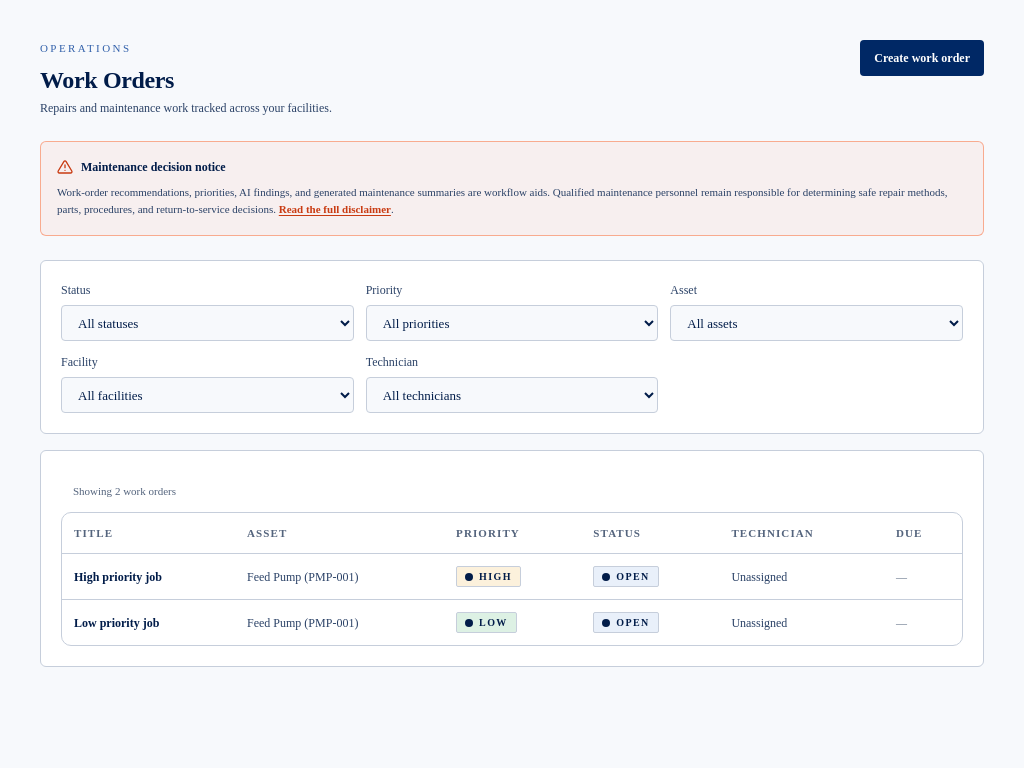
Test: work orders page › filters by priority client-side without re-fetching (no server param exists)
The image size is (1024, 768).
Expected: the text "High priority job" is shown, [62,554,235,600]
Expected: the text "Low priority job" is shown, [62,600,235,645]
Select "High" in the dropdown labelled "Priority": (512, 323) [366,305,658,341]
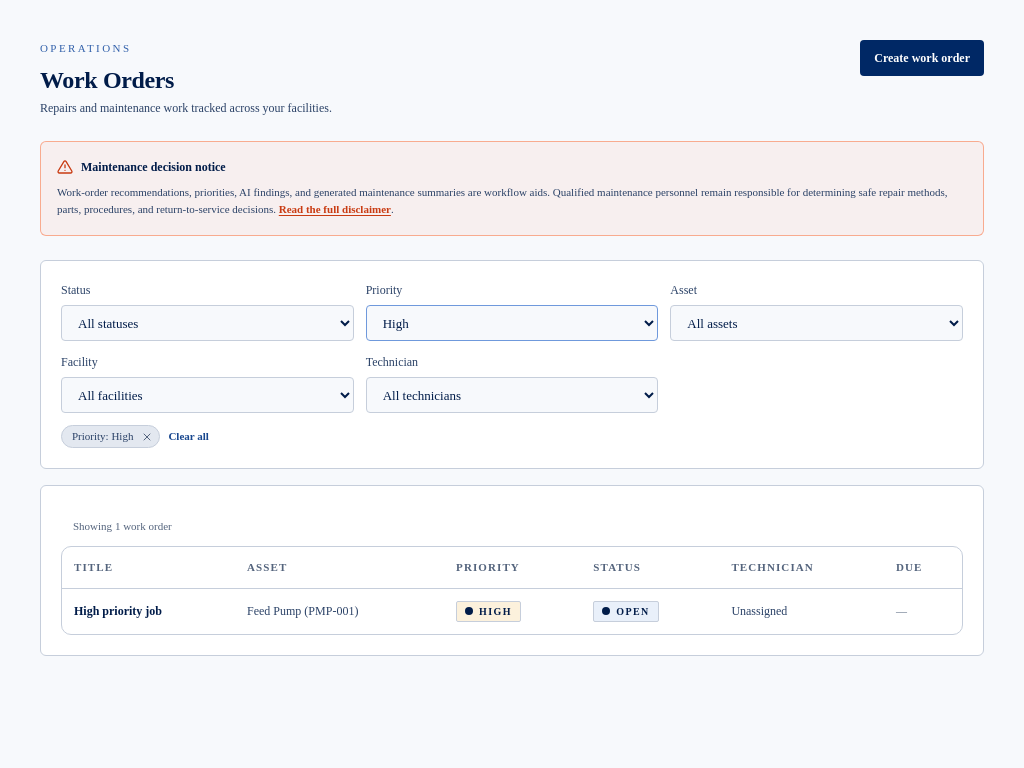
Expected: the text "High priority job" is shown, [62,588,235,634]
Now the text "Low priority job" is gone
